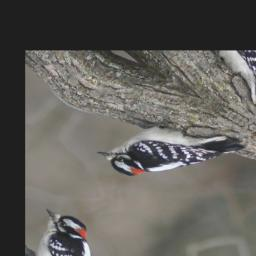Woodpecker: (93, 91, 251, 213)
